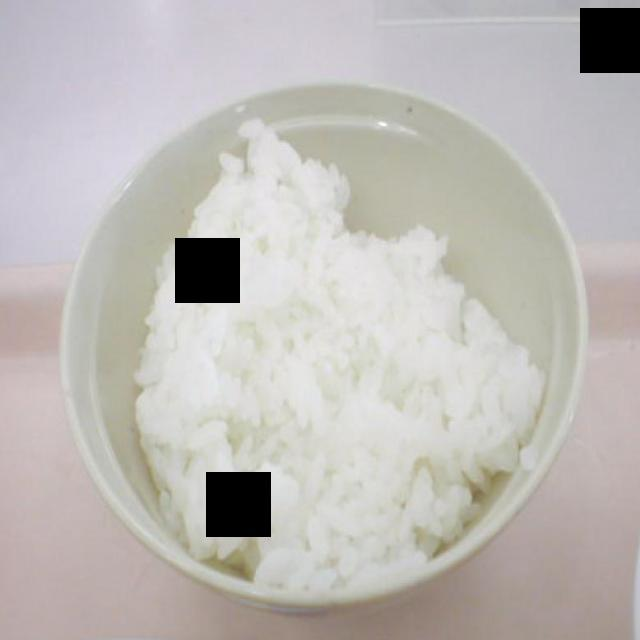rice: (132, 121, 542, 587)
